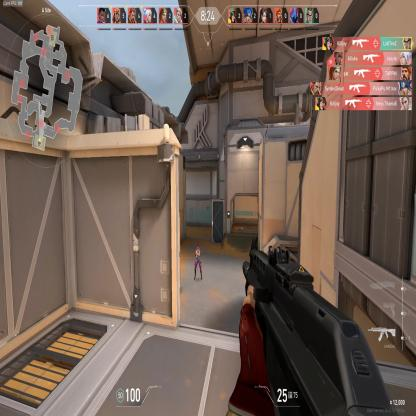enemy: (193, 242, 203, 281)
